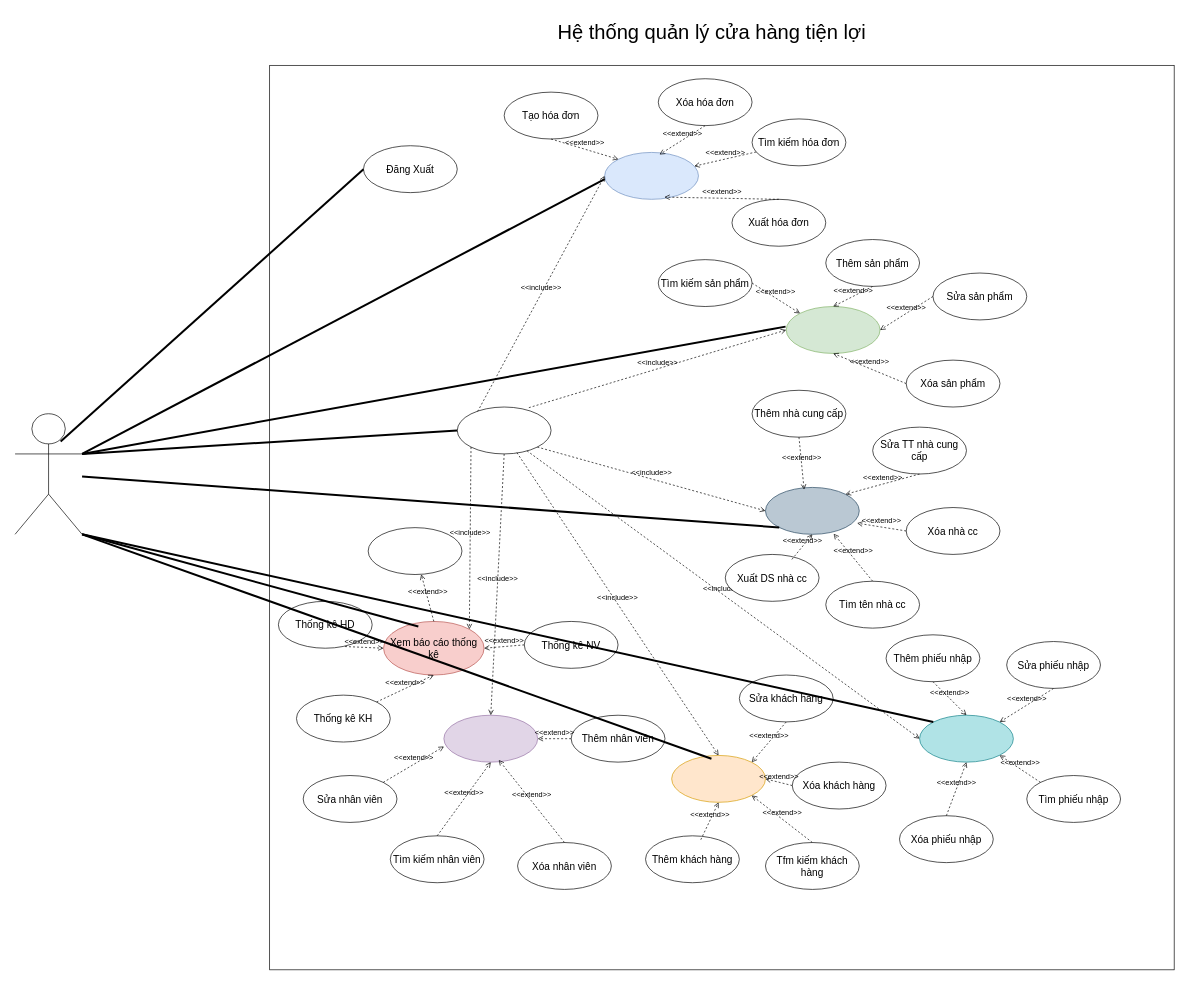
This 1186x982 diagram has some shape labels left out. The shapes that lost their labels are listed below. From the top down, each one's box as (x1, y1, x2, y2) in pixels, then its label:
(604, 152, 698, 199): Quản lý hóa đơn
(786, 306, 880, 353): Quản lý sản phẩm
(457, 406, 551, 454): Đăng Nhập
(14, 413, 82, 534): Người Dùng
(765, 487, 859, 534): Quản lý nhà cung cấp
(367, 527, 462, 575): Thống kê SP
(443, 715, 538, 762): Quản lý nhân viên
(919, 715, 1013, 762): Quản lý phiếu nhập
(671, 755, 765, 802): Quản lý khách hàng
